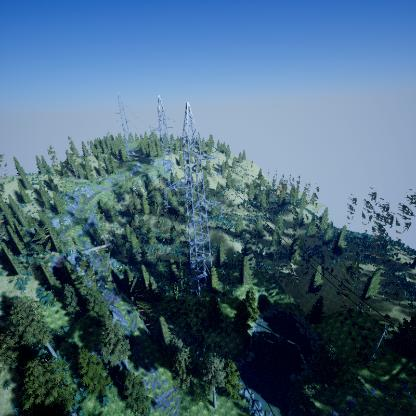tower: (161, 100, 224, 291), (148, 95, 176, 178), (110, 91, 139, 155)
